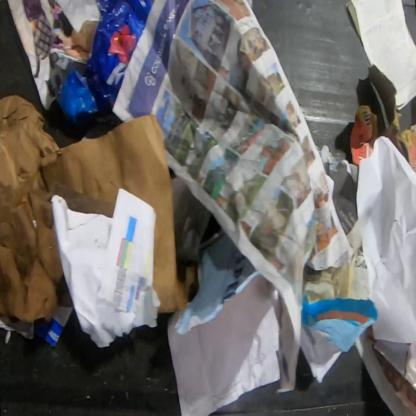cardboard: (367, 63, 415, 175), (350, 105, 382, 167)
soft_plastic: (56, 0, 155, 125)
